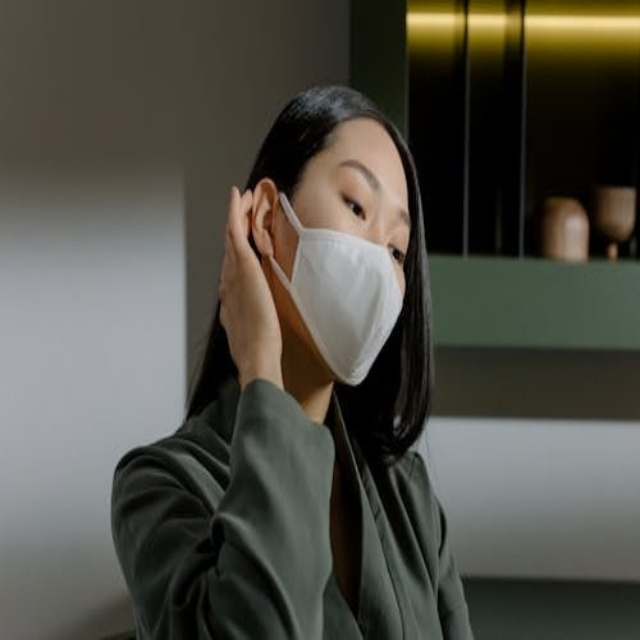Mascara: (269, 187, 403, 382)
Sin_gafas: (323, 144, 416, 271)
Sin_guantes: (205, 167, 287, 394)
